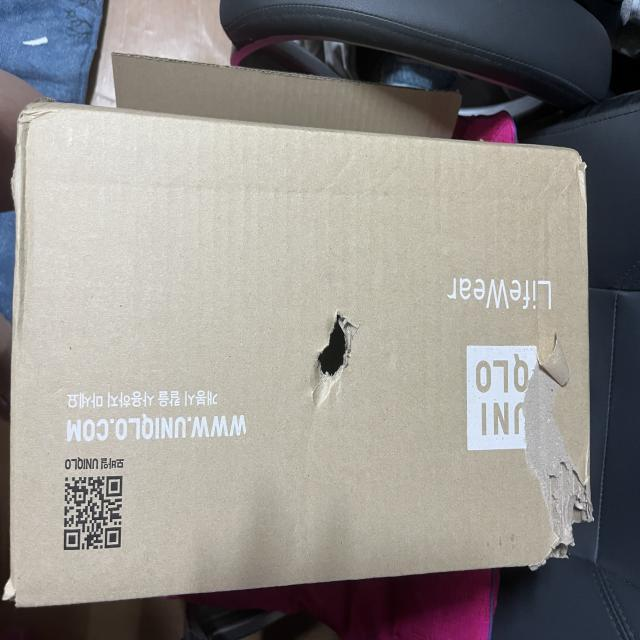hole: (313, 307, 359, 389)
